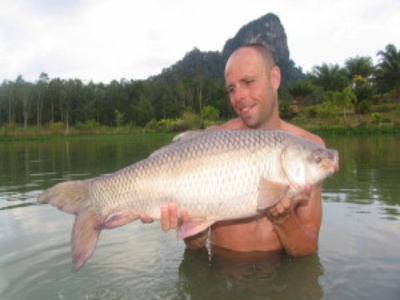rohu: (38, 126, 349, 271)
